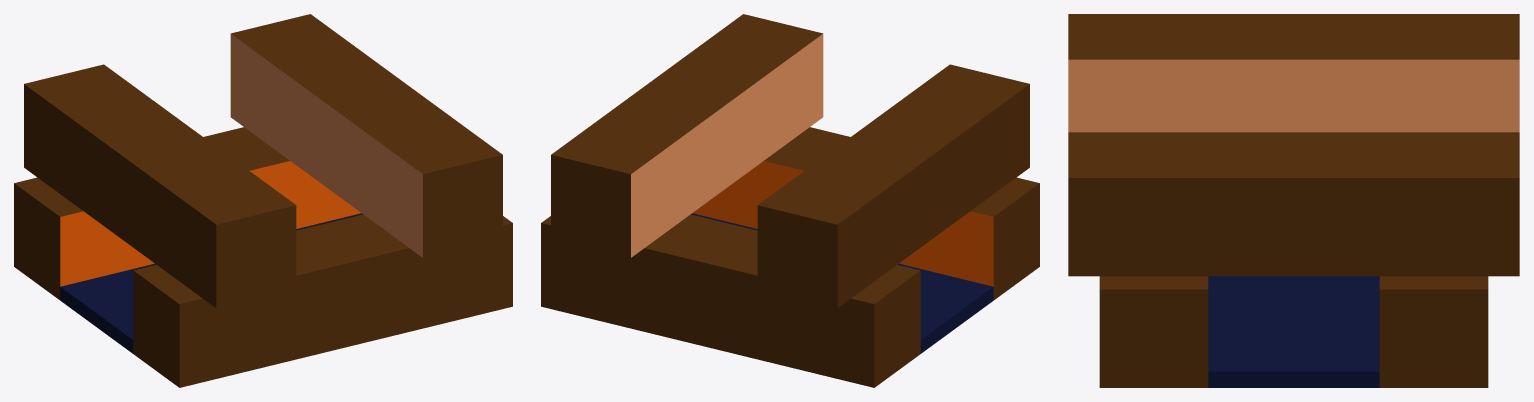
The model's file is Campfire.fbx.
3 views of the same model, side by side, from view 1: azimuth 30°, elevation 25°; view 2: azimuth 150°, elevation 25°; view 3: azimuth 270°, elevation 25° (orthographic). The views are drawn at different scales.
Visible parts, largest first — view 1: Log3, Log4, Log1, Log2, CampfireBase; view 2: Log3, Log4, Log2, Log1, CampfireBase; view 3: Log4, Log3, CampfireBase, Log1, Log2.
Boxes of the visible parts, x1=… form: Log3: x1=24, y1=64, x2=296, y2=308; Log4: x1=230, y1=14, x2=502, y2=257; Log1: x1=133, y1=214, x2=512, y2=387; Log2: x1=14, y1=127, x2=361, y2=300; CampfireBase: x1=60, y1=213, x2=362, y2=353; Log3: x1=757, y1=64, x2=1029, y2=308; Log4: x1=551, y1=14, x2=823, y2=257; Log2: x1=541, y1=214, x2=920, y2=387; Log1: x1=692, y1=127, x2=1039, y2=300; CampfireBase: x1=691, y1=213, x2=993, y2=353; Log4: x1=1068, y1=132, x2=1519, y2=276; Log3: x1=1068, y1=14, x2=1519, y2=132; CampfireBase: x1=1208, y1=276, x2=1379, y2=387; Log1: x1=1099, y1=276, x2=1208, y2=387; Log2: x1=1379, y1=276, x2=1488, y2=387.
Size of the model in its own units: 100 by 48 by 100.
